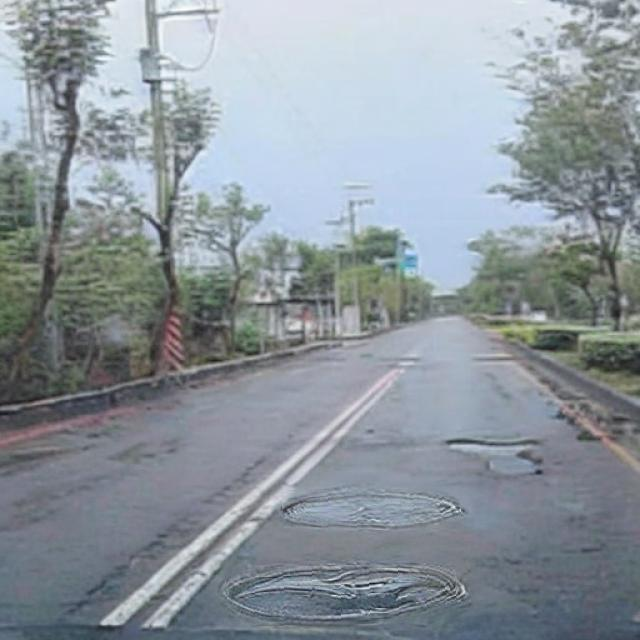puddle: (227, 565, 457, 627), (283, 488, 461, 532)
